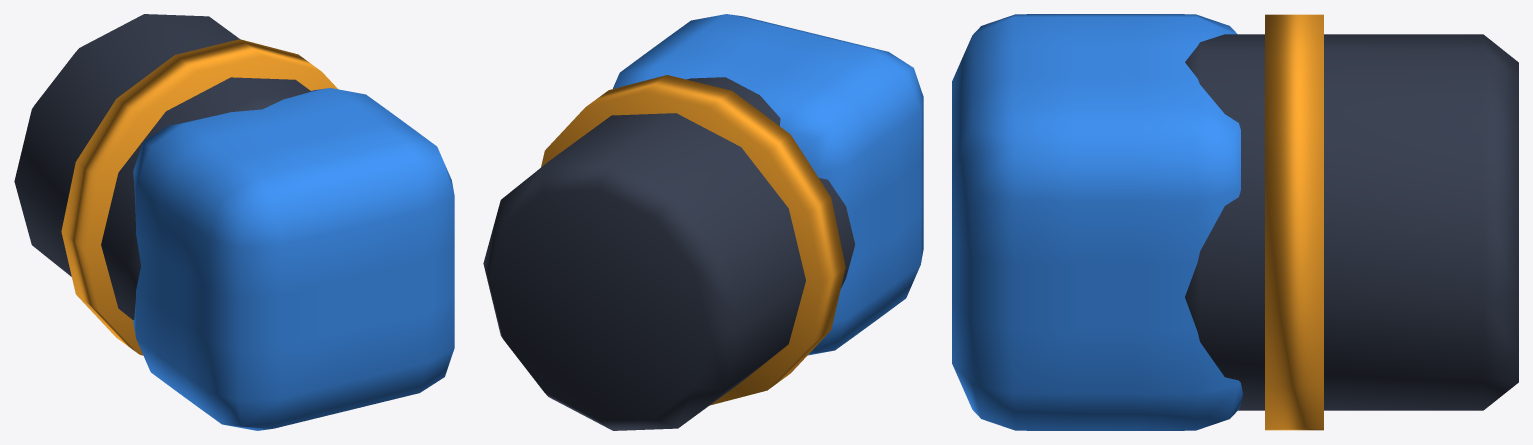
Rendered from glove_buzzguard.obj.
3 views of the same model, side by side, from view 1: azimuth 30°, elevation 25°; view 2: azimuth 150°, elevation 25°; view 3: azimuth 270°, elevation 25° (orthographic). The views are drawn at different scales.
Bounding box in the file's own units: 0.36 × 0.351 × 0.48.
